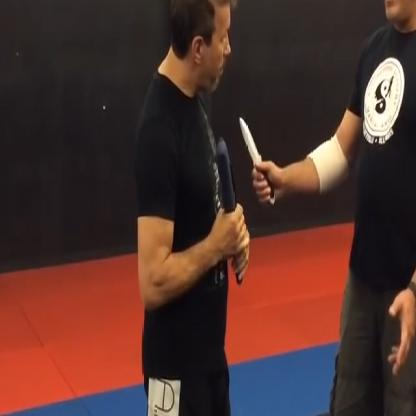knife: (235, 106, 277, 209)
